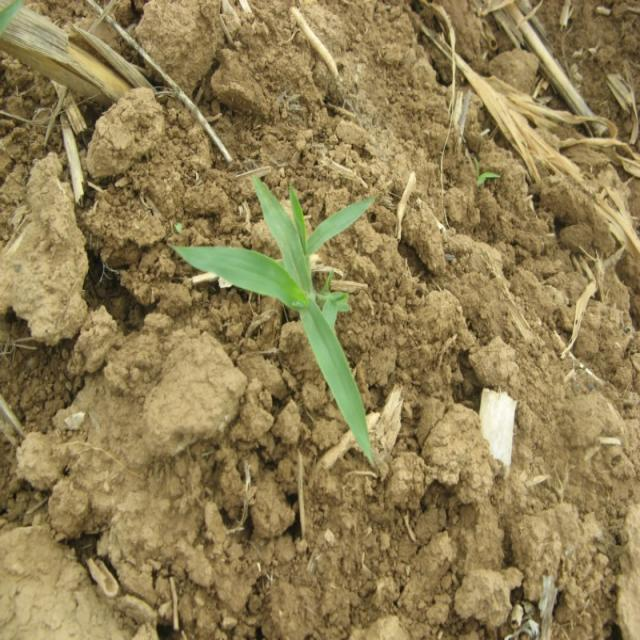bg: (174, 170, 383, 470)
